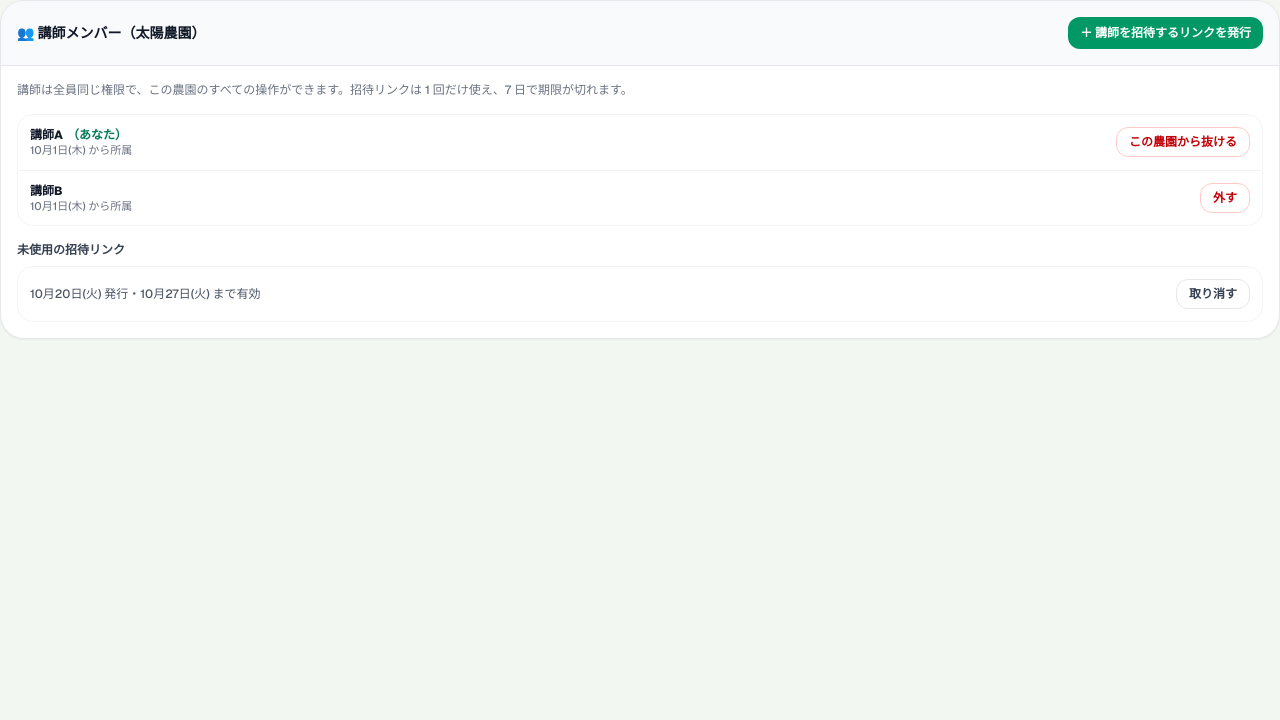
Scenario: FarmMembersSection - 講師メンバー管理 › 招待を取り消すと revoke_farm_invitation を呼ぶ
Click the button "取り消す": (1213, 294) [1176,279,1250,309]
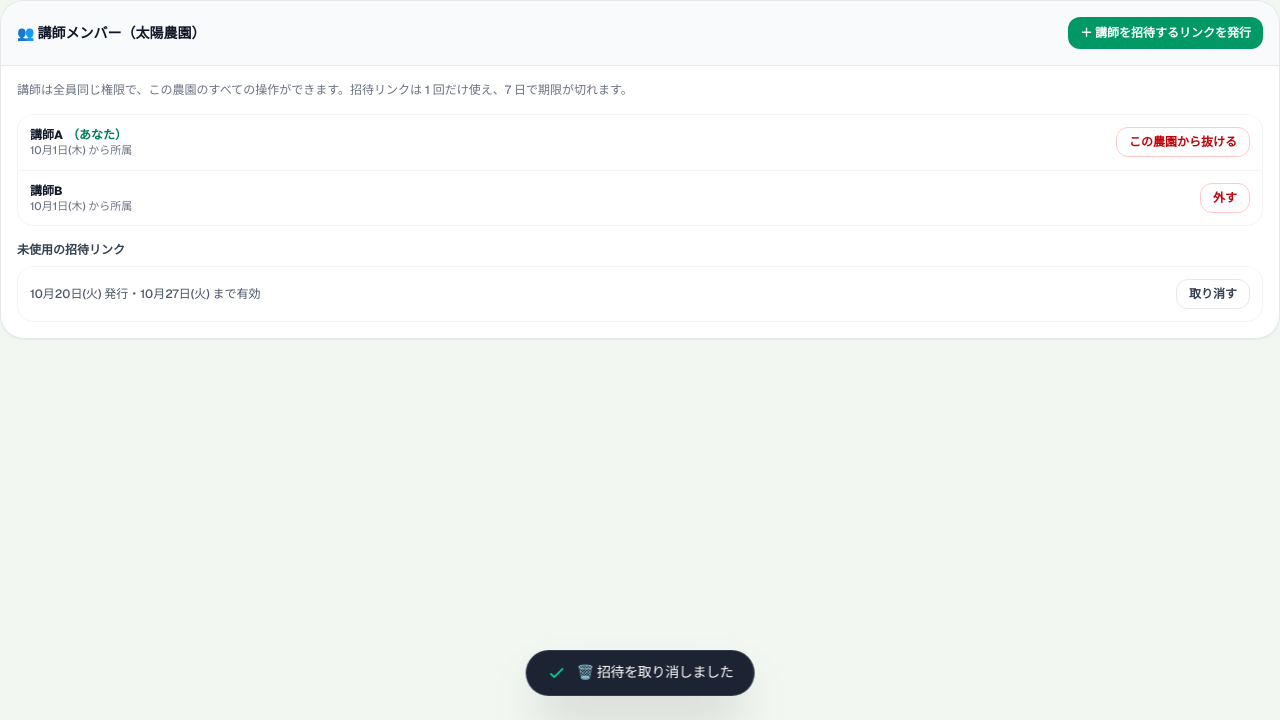
Now the text "🗑️ 招待を取り消しました" is shown, box [577,663,733,683]
